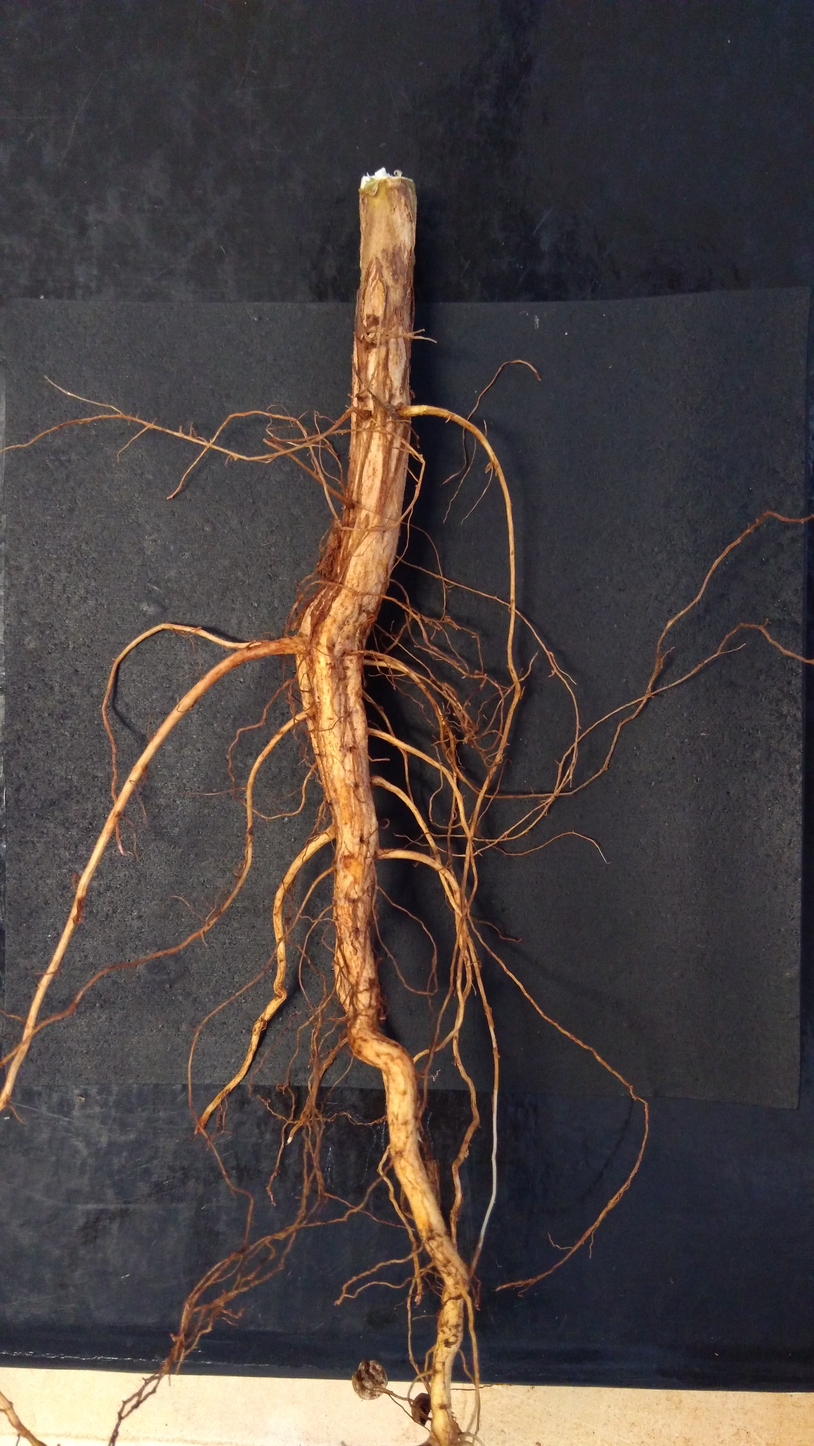nodule: (351, 1359, 388, 1400), (423, 1158, 441, 1207), (410, 1392, 432, 1427), (317, 548, 336, 581), (326, 528, 341, 551), (333, 518, 342, 529), (276, 1082, 284, 1093), (169, 1333, 176, 1342)
